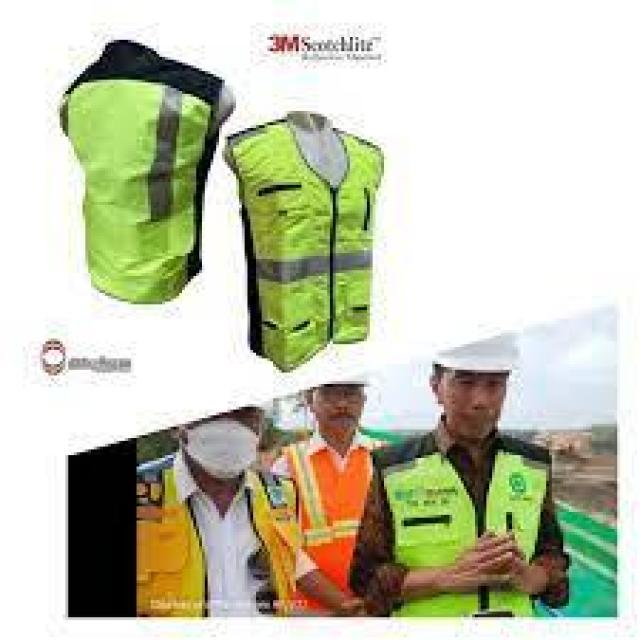vest: (364, 428, 558, 627), (64, 43, 209, 304), (235, 118, 382, 354), (129, 457, 303, 636), (294, 429, 386, 606)
